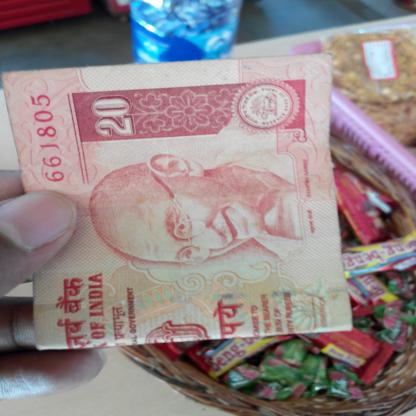Old20Front: (3, 72, 336, 336)
